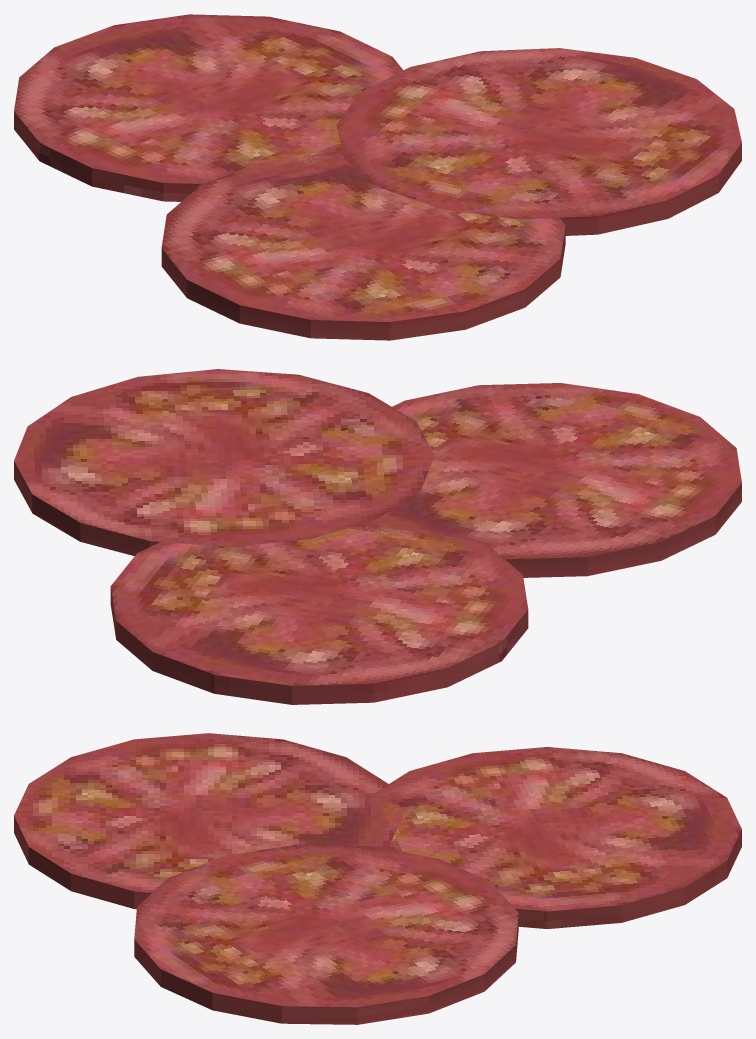
File: Pomidori.fbx
3 renders of one model, top to bottom at view 1: azimuth 30°, elevation 25°; view 2: azimuth 150°, elevation 25°; view 3: azimuth 270°, elevation 25°, orthographic. The views are drawn at different scales.
Visible parts, largest first — view 1: Cylinder.010; view 2: Cylinder.010; view 3: Cylinder.010.
Boxes of the visible parts, x1=… form: Cylinder.010: x1=14, y1=14, x2=741, y2=340; Cylinder.010: x1=14, y1=369, x2=741, y2=704; Cylinder.010: x1=14, y1=733, x2=741, y2=1024.
Size of the model in its own units: 39.66 by 1.19 by 44.51.
